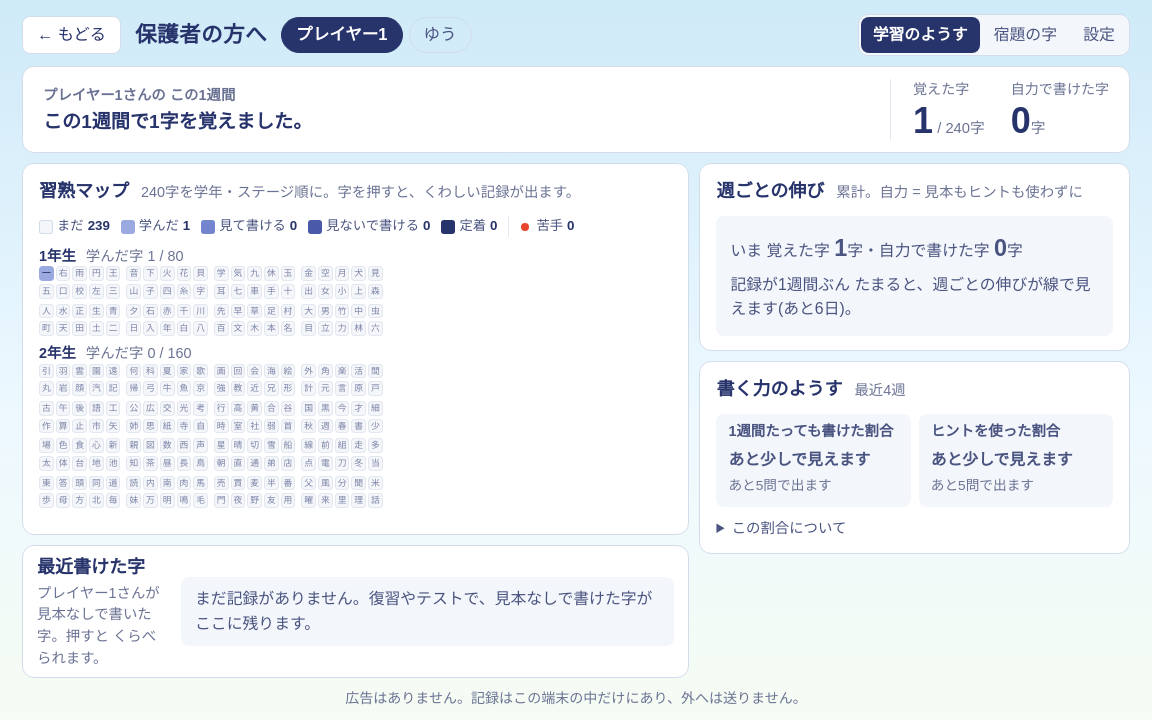
保護者の画面: 学習のようす › 使いはじめの子は「1週間ぶん たまると見えます」、ログのない古い記録の子は 見つもった段階と 説明が出る
Later steps or results of the test are not shown.
Expected: the element "週ごとの伸び" shows "記録が1週間ぶん たまると、週ごとの伸びが線で見えます(あと6日)", [699,163,1130,351]
Click the tab "ゆう": (440, 35) [408,17,472,53]
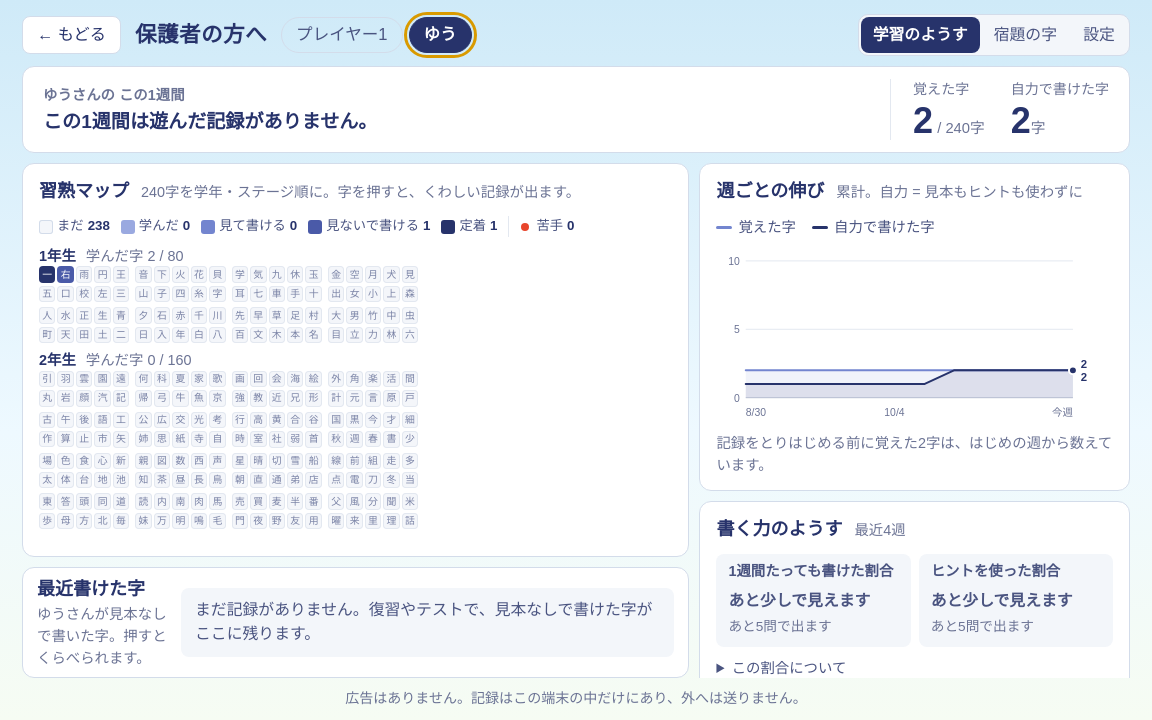
Expected: the element "週ごとの伸び" shows "記録をとりはじめる前に覚えた2字は、はじめの週から数えています。", [699,163,1130,491]
